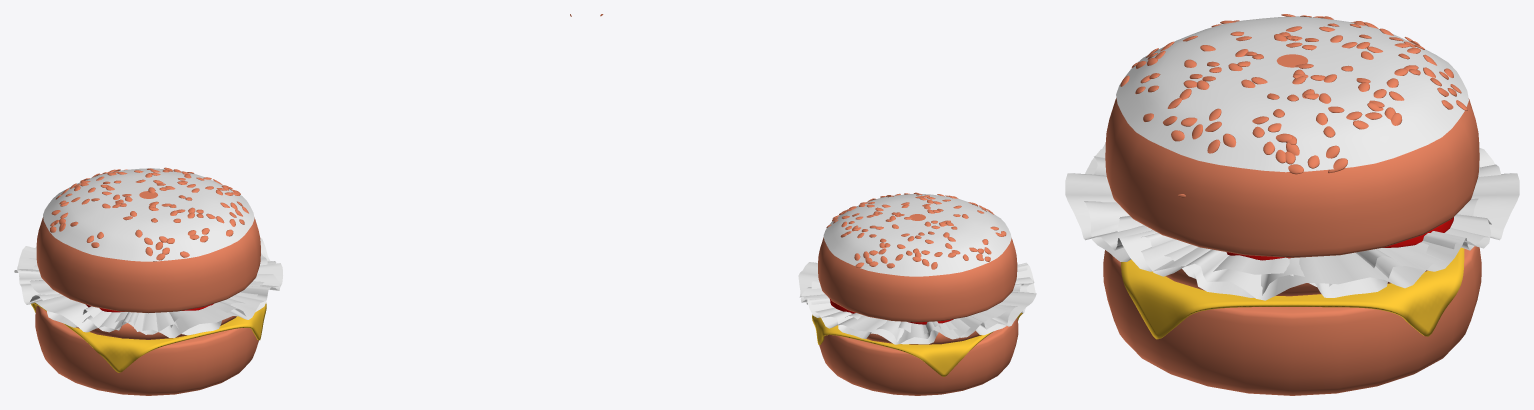
Rendered from hamburger.fbx.
The picture shows the model from 3 angles, left to right: view 1: azimuth 30°, elevation 25°; view 2: azimuth 150°, elevation 25°; view 3: azimuth 270°, elevation 25°; orthographic projection. The views are drawn at different scales.
Visible parts, largest first — view 1: topping_particle, top, buttom, veg.002, veg, chesse, veg.001, meat; view 2: topping_particle, top, buttom, veg.002, veg, chesse, veg.001, meat; view 3: topping_particle, top, buttom, veg, chesse, veg.002, veg.001, meat, totato.
Boxes of the visible parts, x1,y1,x2,y2 form: topping_particle: (43,168,254,261); top: (36,191,260,313); buttom: (35,305,258,395); veg.002: (14,238,282,335); veg: (17,246,280,337); chesse: (31,302,266,372); veg.001: (30,253,267,329); meat: (76,316,236,339); topping_particle: (823,193,1011,276); top: (818,214,1017,322); buttom: (819,318,1018,395); veg.002: (798,262,1036,344); veg: (800,262,1034,344); chesse: (812,312,1022,376); veg.001: (811,278,1023,334); meat: (866,330,981,344); topping_particle: (1116,16,1468,172); top: (1105,54,1479,257); buttom: (1103,246,1481,395); veg: (1065,148,1519,297); chesse: (1121,247,1464,339); veg.002: (1084,143,1501,300); veg.001: (1106,177,1478,286); meat: (1165,268,1427,296); totato: (1226,217,1453,260).
Bounding box in the file's own units: 500 × 254 × 233.
